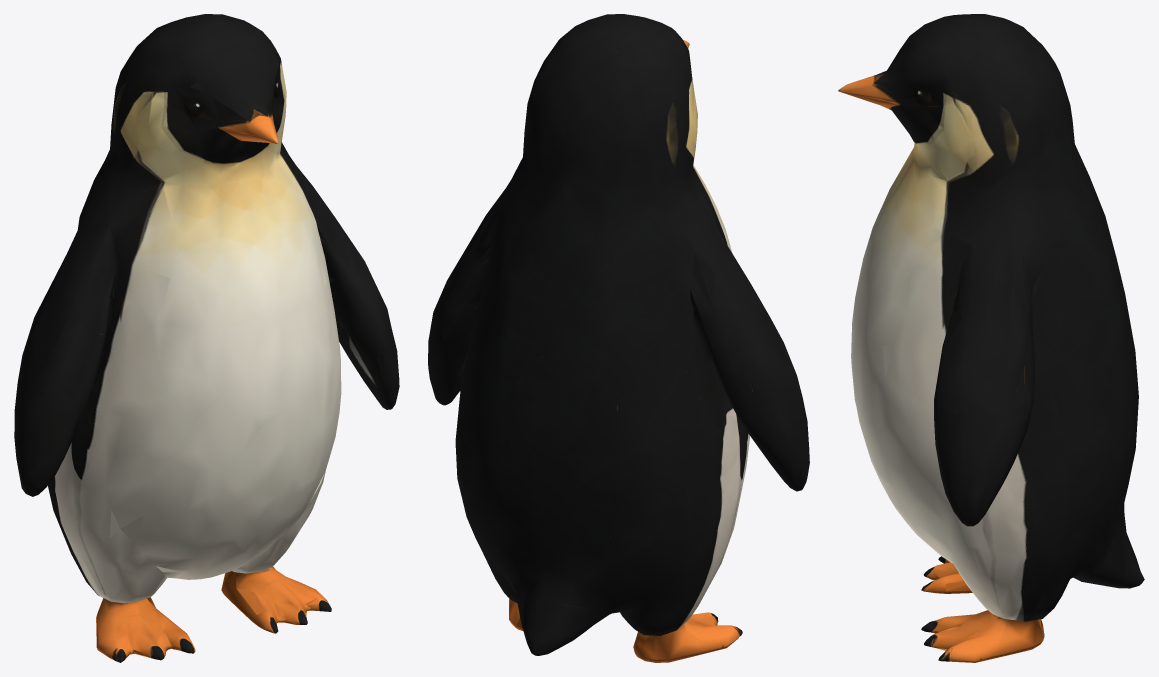
Rendered from penguin-edge.glb.
The picture shows the model from 3 angles, left to right: view 1: azimuth 30°, elevation 25°; view 2: azimuth 150°, elevation 25°; view 3: azimuth 270°, elevation 25°; orthographic projection. The views are drawn at different scales.
Parts seen in each view (by area): view 1: output_unwrapped; view 2: output_unwrapped; view 3: output_unwrapped.
Boxes of the visible parts, x1=… form: output_unwrapped: x1=14, y1=14, x2=399, y2=662; output_unwrapped: x1=428, y1=14, x2=809, y2=662; output_unwrapped: x1=838, y1=14, x2=1144, y2=662.
Bounding box in the file's own units: 1.23 × 1.9 × 0.8937.
1 material, 1 textured.
